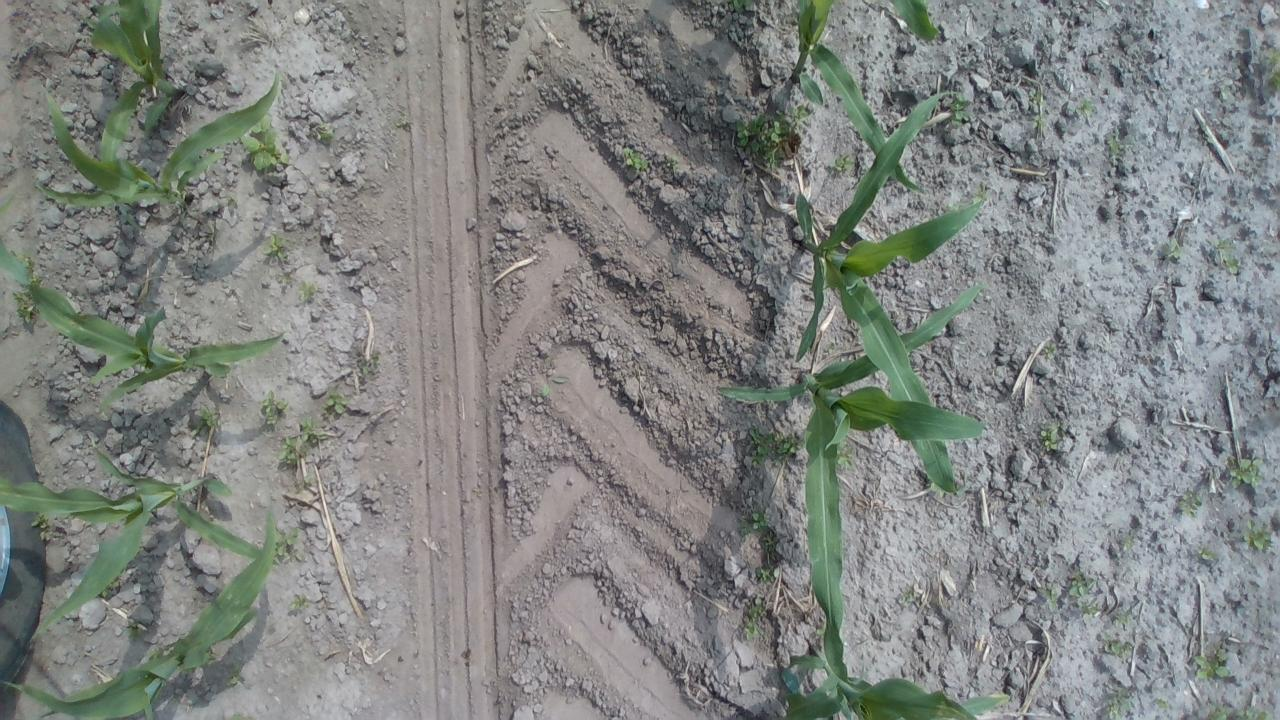Maize: (716, 279, 982, 705), (798, 84, 986, 497), (0, 192, 289, 415), (0, 434, 280, 644), (0, 510, 278, 720), (35, 72, 283, 215), (787, 0, 943, 195), (780, 634, 1011, 720), (88, 0, 186, 168)
Weeds: (736, 102, 810, 170), (242, 114, 290, 172), (748, 422, 804, 468), (274, 419, 328, 464), (1191, 642, 1229, 688), (276, 271, 318, 302), (257, 388, 289, 428), (188, 402, 223, 437), (1228, 455, 1265, 488), (742, 592, 765, 642), (274, 526, 305, 562), (940, 94, 972, 128), (1206, 704, 1274, 720), (262, 232, 298, 262), (738, 504, 770, 537), (1102, 630, 1134, 662), (1244, 519, 1274, 553), (1102, 686, 1132, 720), (1211, 238, 1239, 274), (320, 386, 350, 418), (8, 287, 34, 322), (622, 145, 651, 173), (30, 511, 57, 541), (1068, 570, 1096, 597), (1263, 46, 1280, 90), (760, 530, 782, 562), (1039, 421, 1061, 452), (1178, 491, 1202, 519), (542, 374, 568, 396), (356, 352, 382, 374), (831, 150, 853, 174), (1038, 582, 1058, 607), (836, 440, 854, 467), (1106, 134, 1124, 160), (1161, 238, 1183, 258), (318, 122, 337, 144), (1072, 98, 1098, 114), (98, 580, 120, 598), (226, 662, 242, 686), (756, 565, 776, 584), (287, 593, 307, 610), (726, 0, 752, 13), (898, 590, 919, 606), (974, 182, 989, 204), (126, 622, 144, 640), (15, 250, 34, 266), (1222, 77, 1234, 102), (1198, 545, 1218, 560), (224, 192, 240, 210), (31, 272, 48, 288), (1031, 114, 1047, 130), (1027, 88, 1042, 105), (78, 16, 96, 30), (1042, 340, 1056, 358), (1112, 610, 1130, 624), (207, 649, 225, 663), (394, 112, 408, 128), (1123, 534, 1135, 552), (1079, 602, 1097, 614), (666, 156, 681, 170), (145, 646, 161, 659), (142, 403, 160, 414), (46, 414, 66, 423), (126, 209, 138, 224), (815, 624, 825, 640), (1155, 698, 1169, 709), (822, 344, 834, 356), (118, 432, 128, 444), (80, 520, 95, 527), (228, 712, 241, 720), (472, 488, 482, 498), (32, 352, 42, 360), (18, 46, 29, 53), (63, 67, 72, 75), (78, 38, 85, 48), (191, 207, 198, 216), (136, 384, 144, 391), (656, 64, 662, 72)
